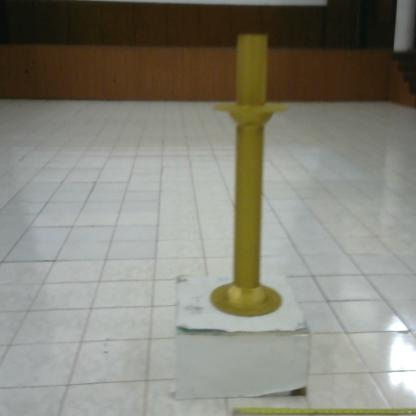pole: (204, 30, 298, 325)
